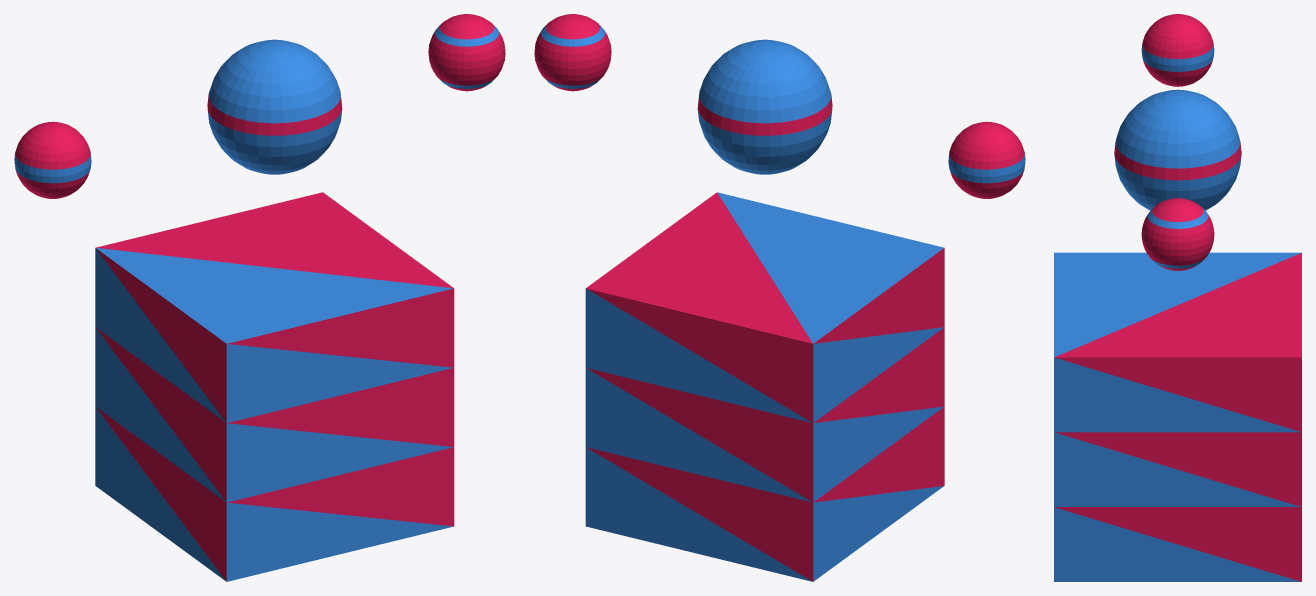
The model's file is parent_child_obj.gltf.
The picture shows the model from 3 angles, left to right: view 1: azimuth 30°, elevation 25°; view 2: azimuth 150°, elevation 25°; view 3: azimuth 270°, elevation 25°; orthographic projection. The views are drawn at different scales.
Parts seen in each view (by area): view 1: Cube, Sphere, Sphere.002, Sphere.001; view 2: Cube, Sphere, Sphere.002, Sphere.001; view 3: Cube, Sphere, Sphere.001, Sphere.002.
Boxes of the visible parts, x1=… form: Cube: x1=95, y1=192, x2=454, y2=581; Sphere: x1=207, y1=39, x2=342, y2=174; Sphere.002: x1=14, y1=121, x2=91, y2=198; Sphere.001: x1=428, y1=14, x2=505, y2=91; Cube: x1=585, y1=192, x2=944, y2=581; Sphere: x1=697, y1=39, x2=832, y2=174; Sphere.002: x1=948, y1=121, x2=1025, y2=198; Sphere.001: x1=534, y1=14, x2=611, y2=91; Cube: x1=1054, y1=252, x2=1301, y2=581; Sphere: x1=1114, y1=89, x2=1241, y2=210; Sphere.001: x1=1141, y1=198, x2=1214, y2=270; Sphere.002: x1=1141, y1=14, x2=1214, y2=86.
Bounding box in the file's own units: 4.88 × 4.46 × 2.31.
